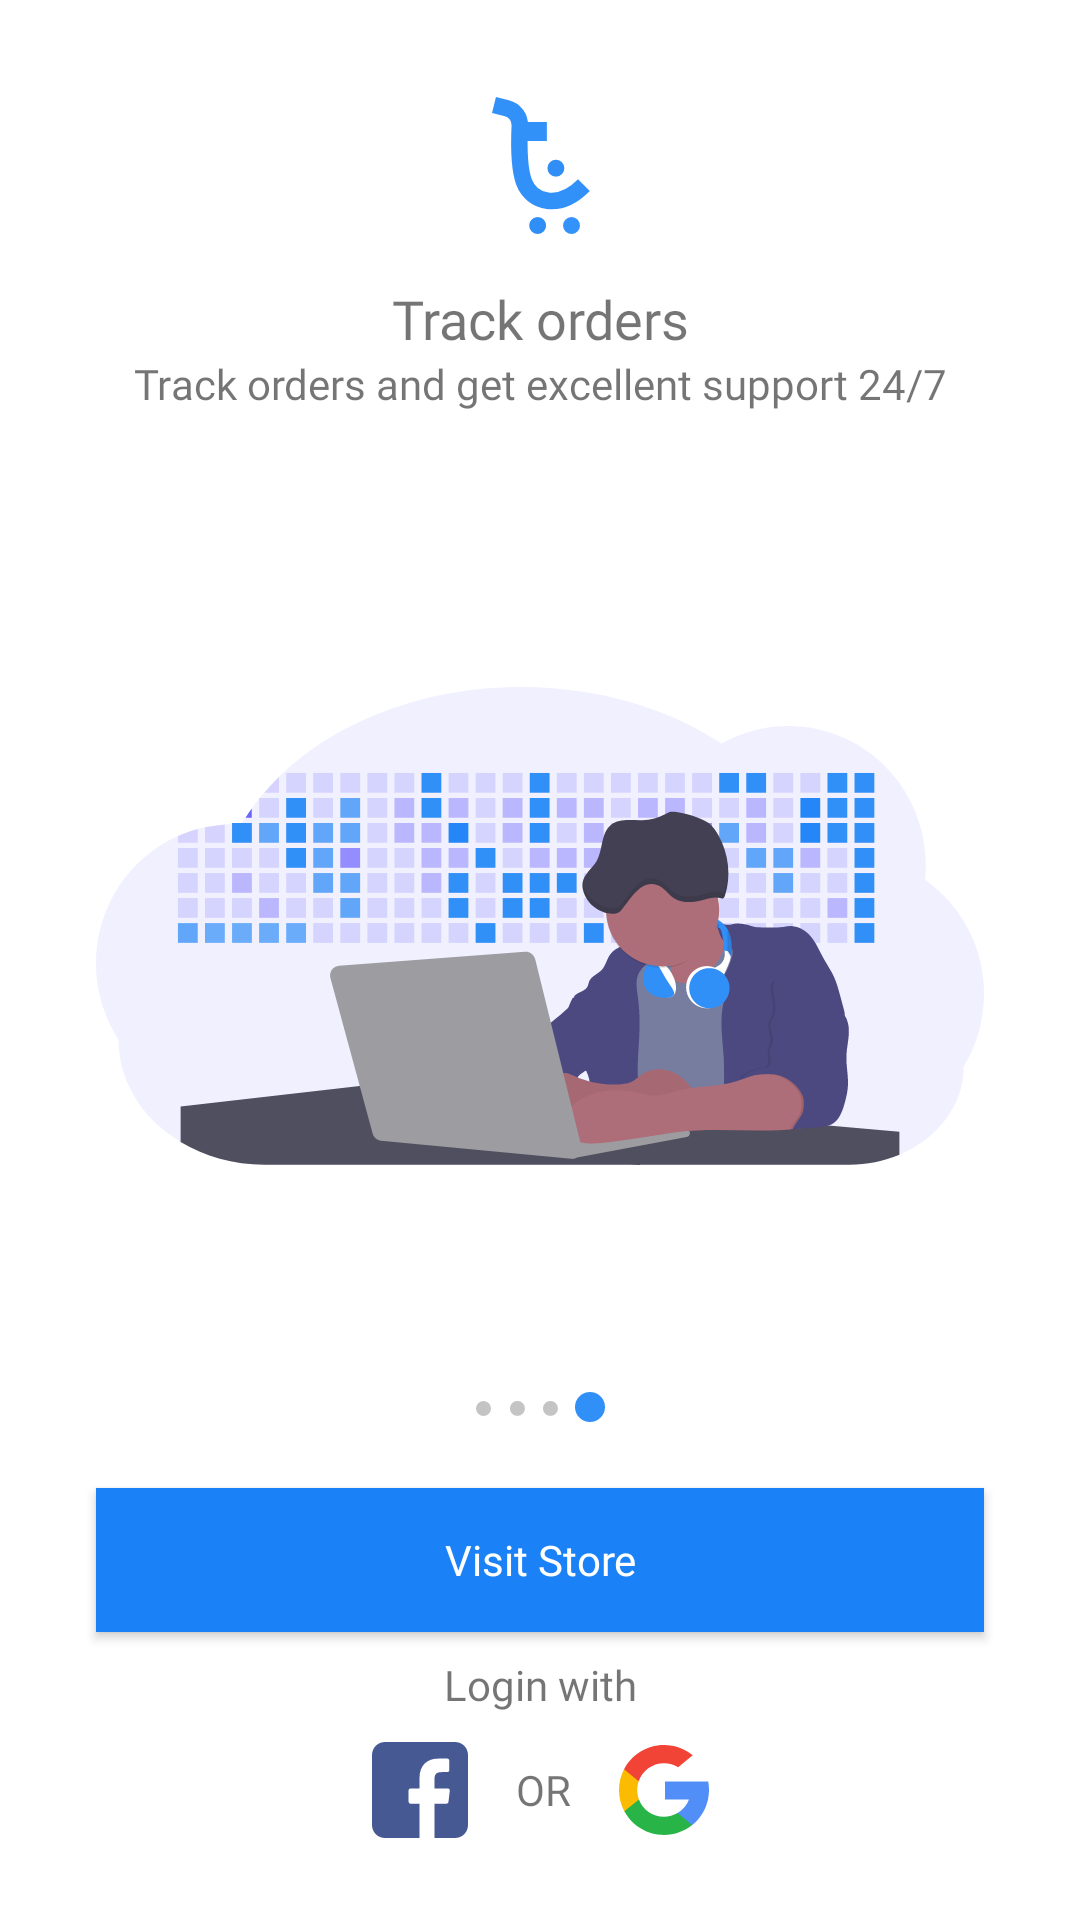

Icon click points for this 1080x1920 phone screenshot, format (x=x, y=y):
pager four: (x=540, y=1407)
